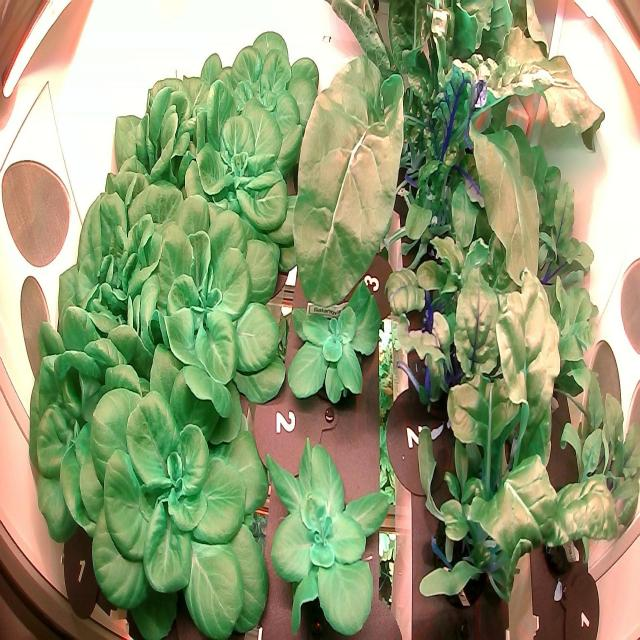Ready: (21, 300, 153, 557), (107, 32, 225, 227), (57, 176, 168, 376)
young: (80, 339, 280, 640), (129, 190, 287, 438), (263, 436, 397, 640), (181, 78, 302, 250), (192, 17, 320, 168), (284, 271, 385, 414)
